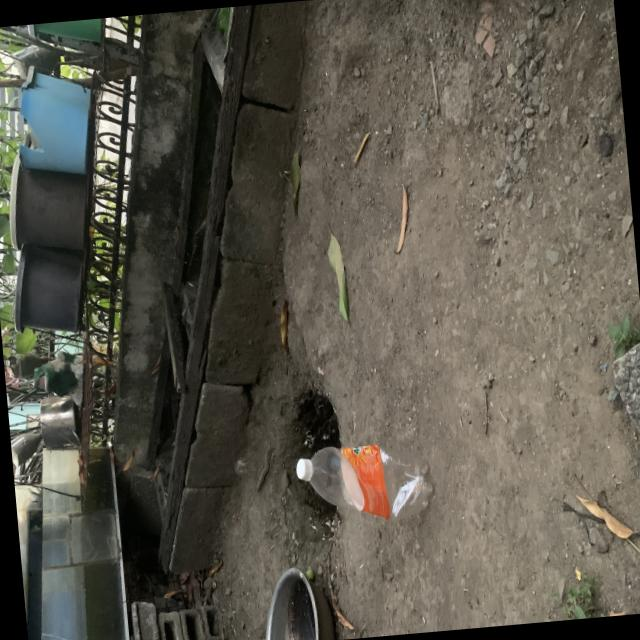Bottle: (295, 445, 431, 519)
